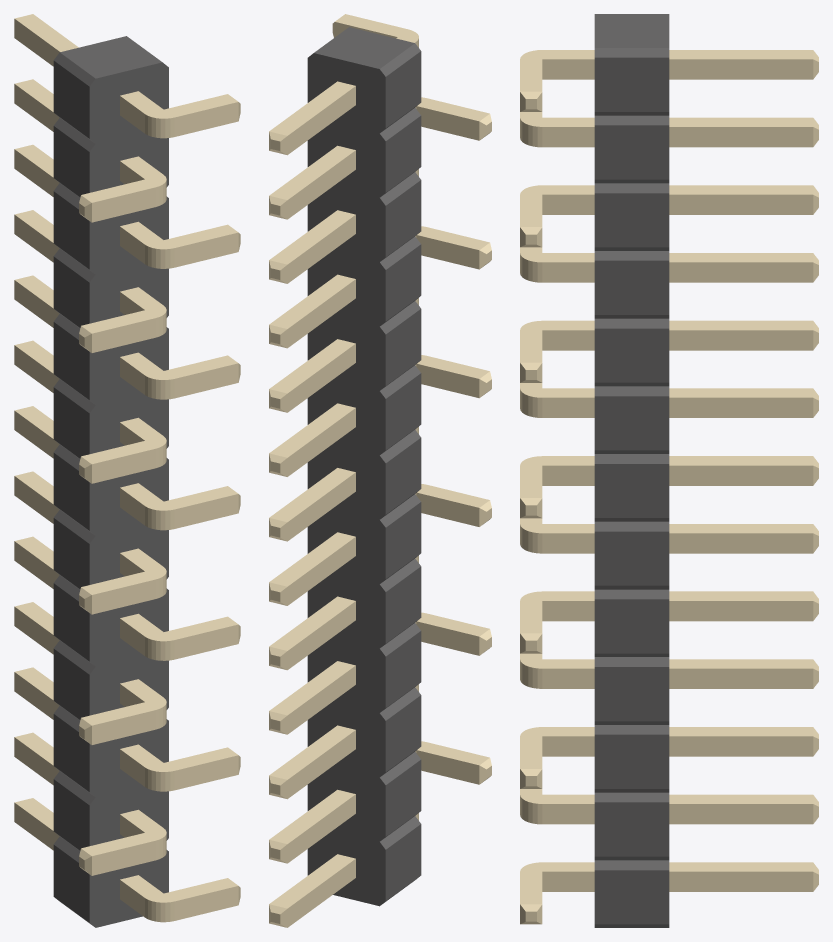
Rendered from PinHeader_1x13_P1.00mm_Vertical_SMD_Pin1Left.glb.
The picture shows the model from 3 angles, left to right: view 1: azimuth 30°, elevation 25°; view 2: azimuth 150°, elevation 25°; view 3: azimuth 270°, elevation 25°; orthographic projection. The views are drawn at different scales.
Visible parts, largest first — view 1: Shape_IndexedFaceSet.003, Shape_IndexedFaceSet.001, Shape_IndexedFaceSet.007, Shape_IndexedFaceSet.019, Shape_IndexedFaceSet.055, Shape_IndexedFaceSet.067, Shape_IndexedFaceSet.079, Shape_IndexedFaceSet.031, Shape_IndexedFaceSet.043, Shape_IndexedFaceSet.025, Shape_IndexedFaceSet.073, Shape_IndexedFaceSet.013 (+71 smaller); view 2: Shape_IndexedFaceSet.004, Shape_IndexedFaceSet.001, Shape_IndexedFaceSet.025, Shape_IndexedFaceSet.037, Shape_IndexedFaceSet.055, Shape_IndexedFaceSet.007, Shape_IndexedFaceSet.013, Shape_IndexedFaceSet.067, Shape_IndexedFaceSet.073, Shape_IndexedFaceSet.019, Shape_IndexedFaceSet.061, Shape_IndexedFaceSet.079 (+44 smaller); view 3: Shape_IndexedFaceSet.010, Shape_IndexedFaceSet.052, Shape_IndexedFaceSet.070, Shape_IndexedFaceSet.002, Shape_IndexedFaceSet.016, Shape_IndexedFaceSet.022, Shape_IndexedFaceSet.028, Shape_IndexedFaceSet.034, Shape_IndexedFaceSet.046, Shape_IndexedFaceSet.058, Shape_IndexedFaceSet.064, Shape_IndexedFaceSet.076 (+67 smaller).
Part boxes in pixels (<box>): Shape_IndexedFaceSet.003: <box>89,62,168,927</box>; Shape_IndexedFaceSet.001: <box>60,36,161,78</box>; Shape_IndexedFaceSet.007: <box>53,61,89,138</box>; Shape_IndexedFaceSet.019: <box>53,191,89,269</box>; Shape_IndexedFaceSet.055: <box>53,583,89,661</box>; Shape_IndexedFaceSet.067: <box>53,714,89,791</box>; Shape_IndexedFaceSet.079: <box>53,845,89,922</box>; Shape_IndexedFaceSet.031: <box>53,322,89,399</box>; Shape_IndexedFaceSet.043: <box>53,453,89,530</box>; Shape_IndexedFaceSet.025: <box>53,256,89,327</box>; Shape_IndexedFaceSet.073: <box>53,779,89,850</box>; Shape_IndexedFaceSet.013: <box>53,126,89,197</box>; Shape_IndexedFaceSet.004: <box>307,53,385,906</box>; Shape_IndexedFaceSet.001: <box>314,27,414,68</box>; Shape_IndexedFaceSet.025: <box>385,244,421,321</box>; Shape_IndexedFaceSet.037: <box>385,373,421,450</box>; Shape_IndexedFaceSet.055: <box>385,566,421,643</box>; Shape_IndexedFaceSet.007: <box>385,51,421,127</box>; Shape_IndexedFaceSet.013: <box>385,116,421,192</box>; Shape_IndexedFaceSet.067: <box>385,695,421,771</box>; Shape_IndexedFaceSet.073: <box>385,760,421,836</box>; Shape_IndexedFaceSet.019: <box>385,180,421,256</box>; Shape_IndexedFaceSet.061: <box>385,631,421,707</box>; Shape_IndexedFaceSet.079: <box>385,824,421,900</box>; Shape_IndexedFaceSet.010: <box>594,125,669,179</box>; Shape_IndexedFaceSet.052: <box>594,599,669,653</box>; Shape_IndexedFaceSet.070: <box>594,802,669,856</box>; Shape_IndexedFaceSet.002: <box>594,57,669,111</box>; Shape_IndexedFaceSet.016: <box>594,193,669,247</box>; Shape_IndexedFaceSet.022: <box>594,260,669,314</box>; Shape_IndexedFaceSet.028: <box>594,328,669,382</box>; Shape_IndexedFaceSet.034: <box>594,396,669,450</box>; Shape_IndexedFaceSet.046: <box>594,531,669,585</box>; Shape_IndexedFaceSet.058: <box>594,667,669,721</box>; Shape_IndexedFaceSet.064: <box>594,734,669,788</box>; Shape_IndexedFaceSet.076: <box>594,870,669,924</box>.
Bounding box in the file's own units: 0.984 × 5.12 × 1.58.
